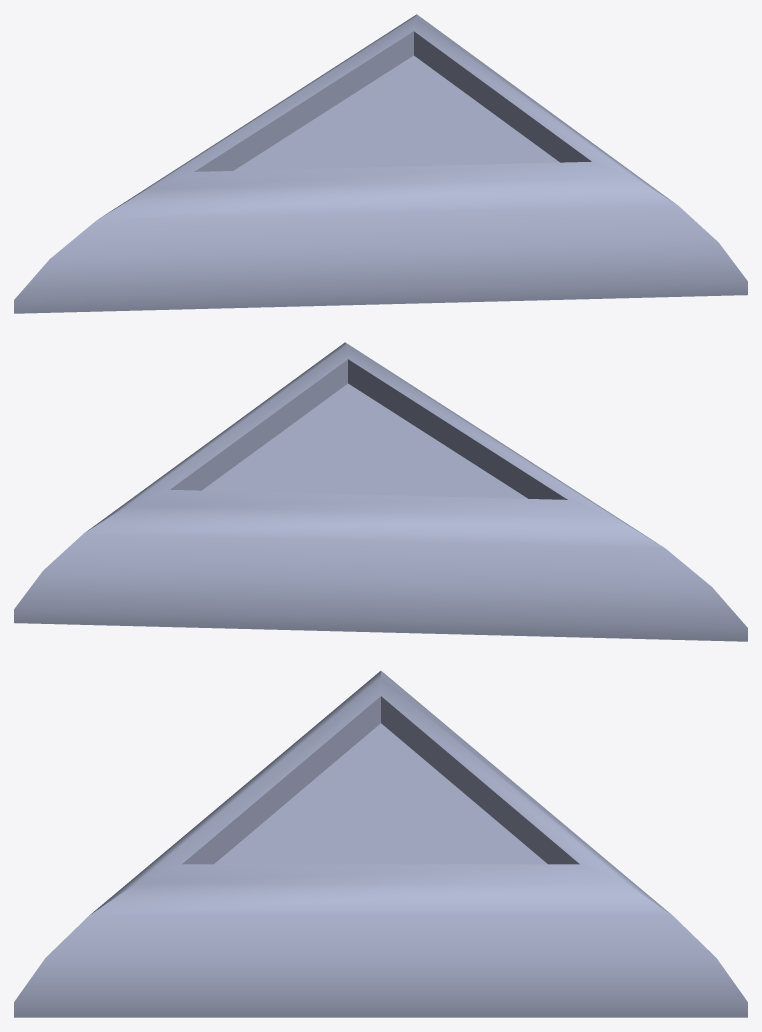
File: Arrow.fbx
3 views of the same model, one above another, from view 1: azimuth 30°, elevation 25°; view 2: azimuth 150°, elevation 25°; view 3: azimuth 270°, elevation 25° (orthographic). The views are drawn at different scales.
Parts seen in each view (by area): view 1: Plane_003; view 2: Plane_003; view 3: Plane_003.
Part boxes in pixels (bbox=[...]): Plane_003: bbox=[14, 14, 747, 313]; Plane_003: bbox=[14, 342, 747, 641]; Plane_003: bbox=[14, 671, 747, 1017].
Size of the model in its own units: 2 by 0.3286 by 2.
